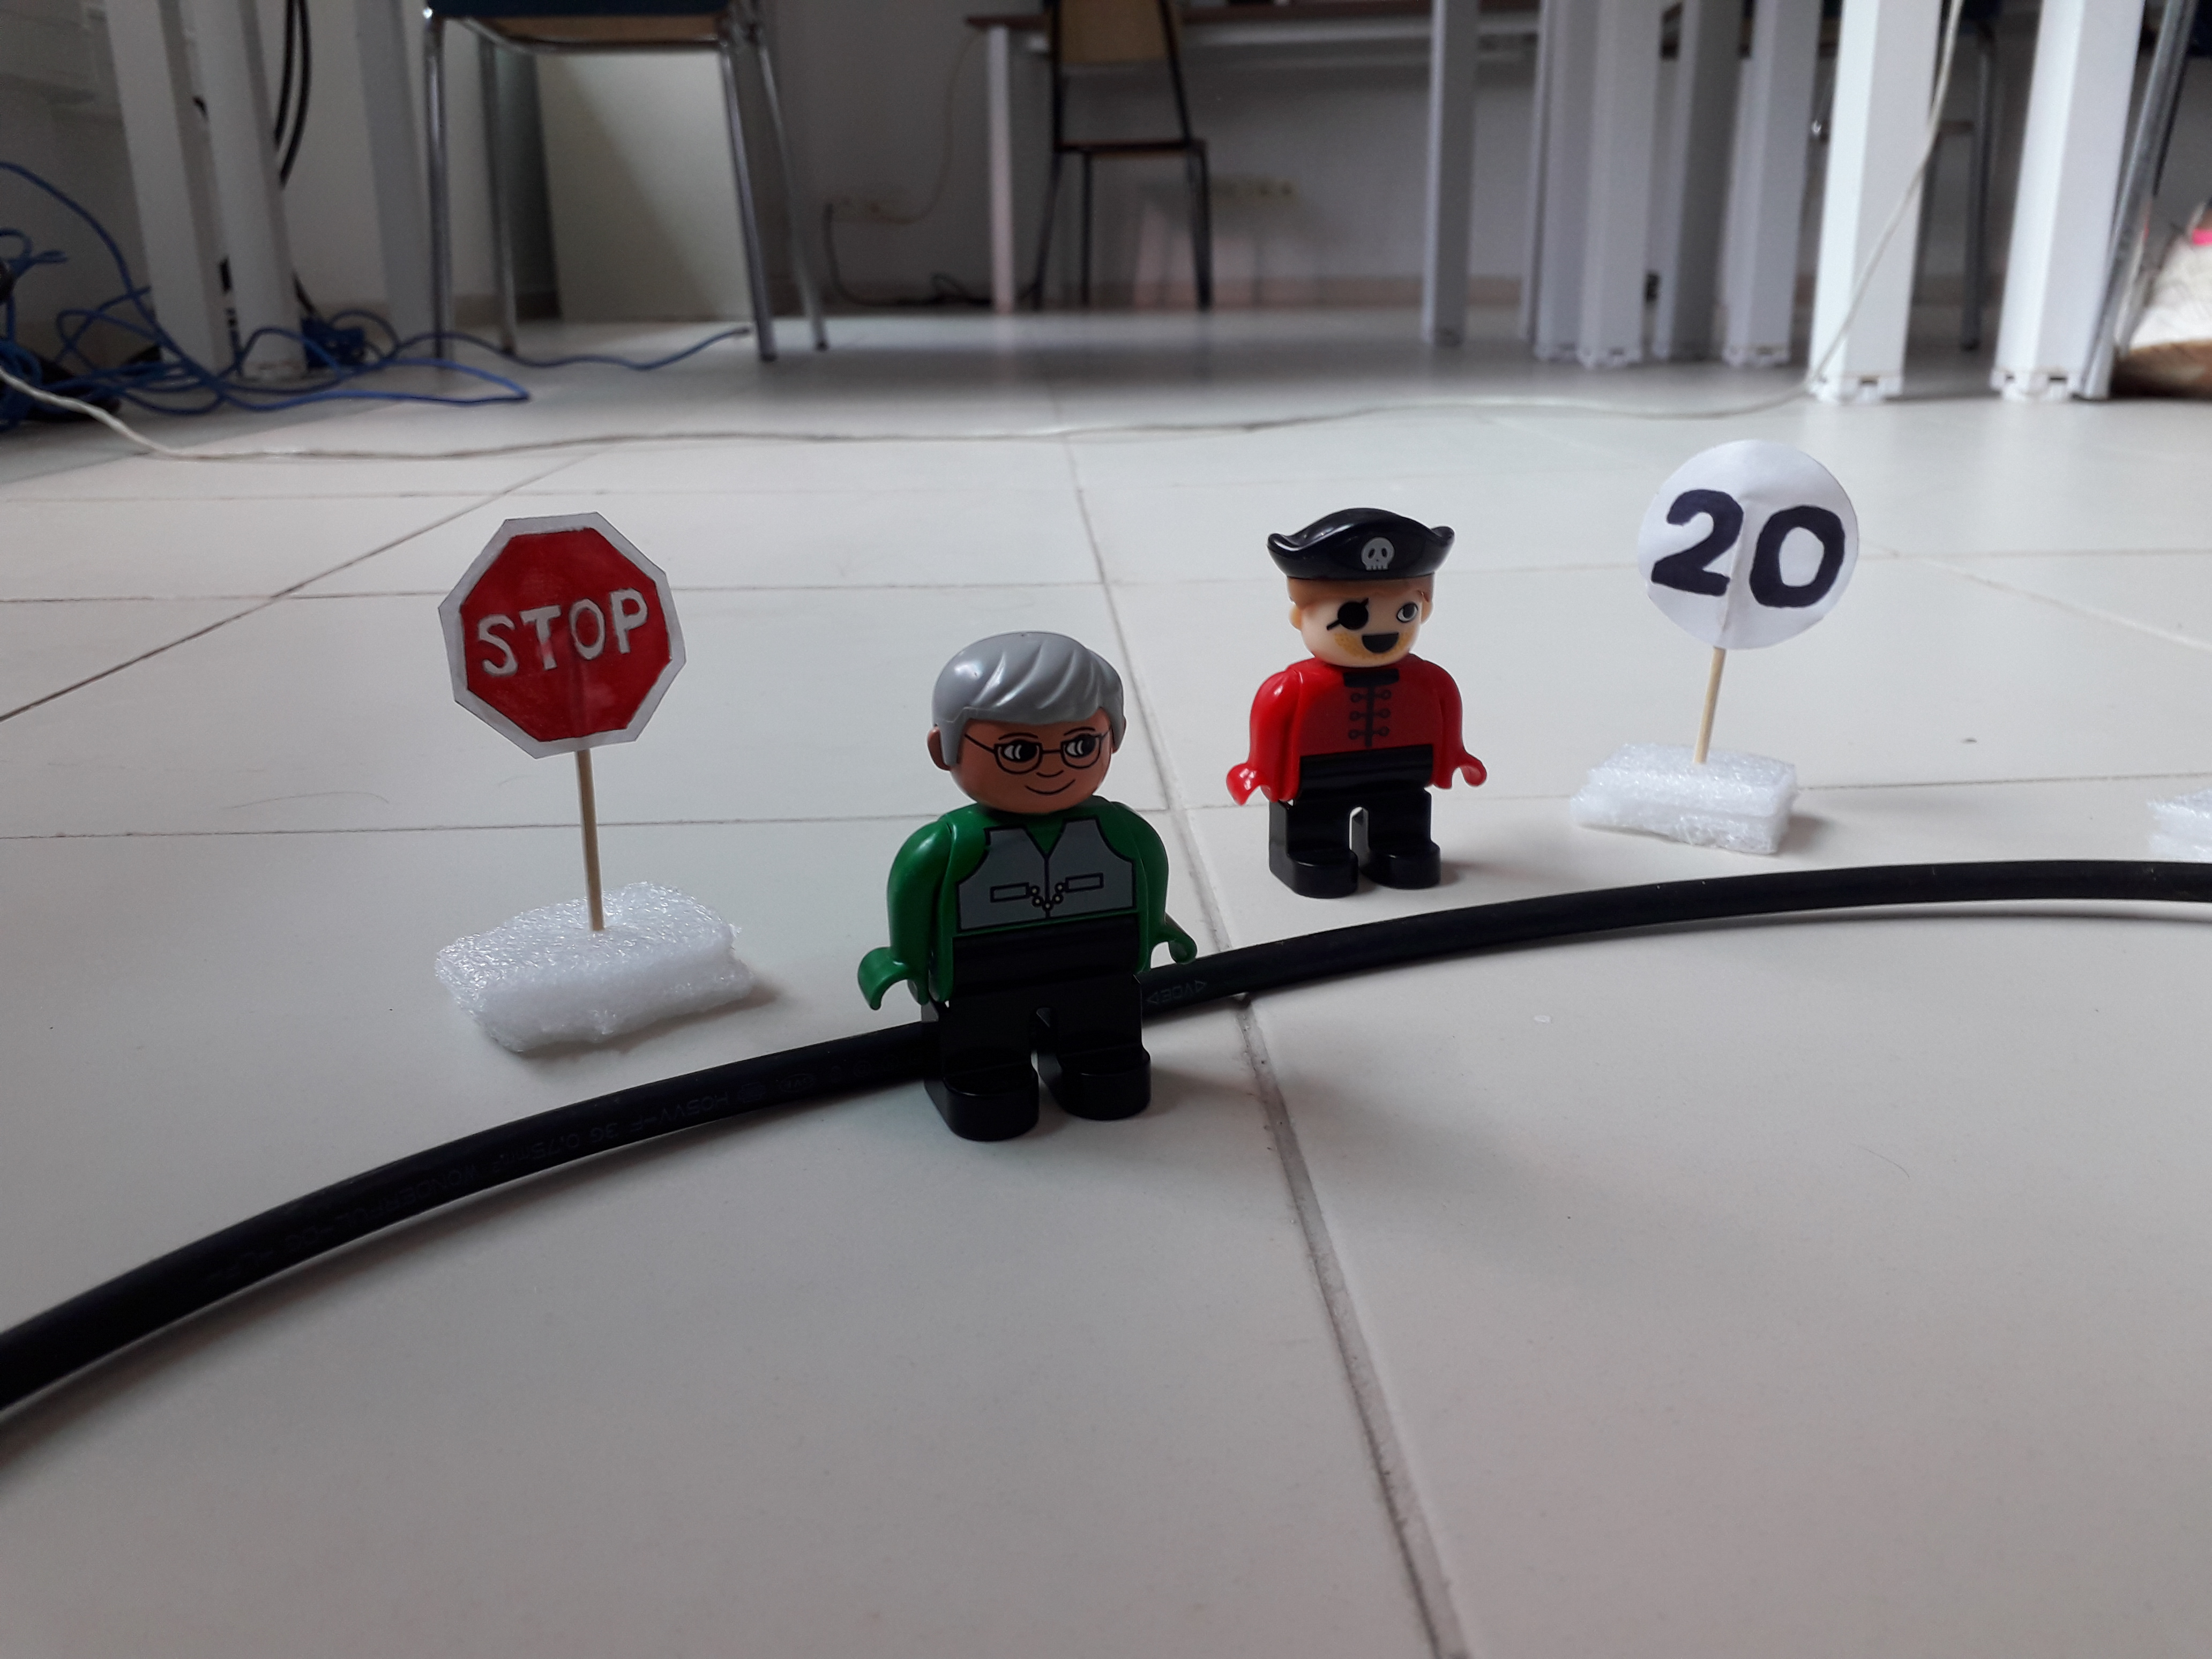20_sign: (1640, 431, 1870, 651)
person: (857, 620, 1199, 1156), (1224, 510, 1495, 906)
stop_sign: (431, 507, 691, 758)
